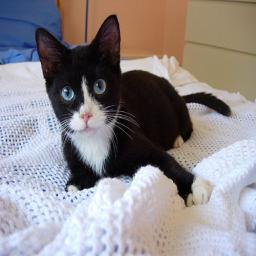catnose: (79, 112, 93, 125)
